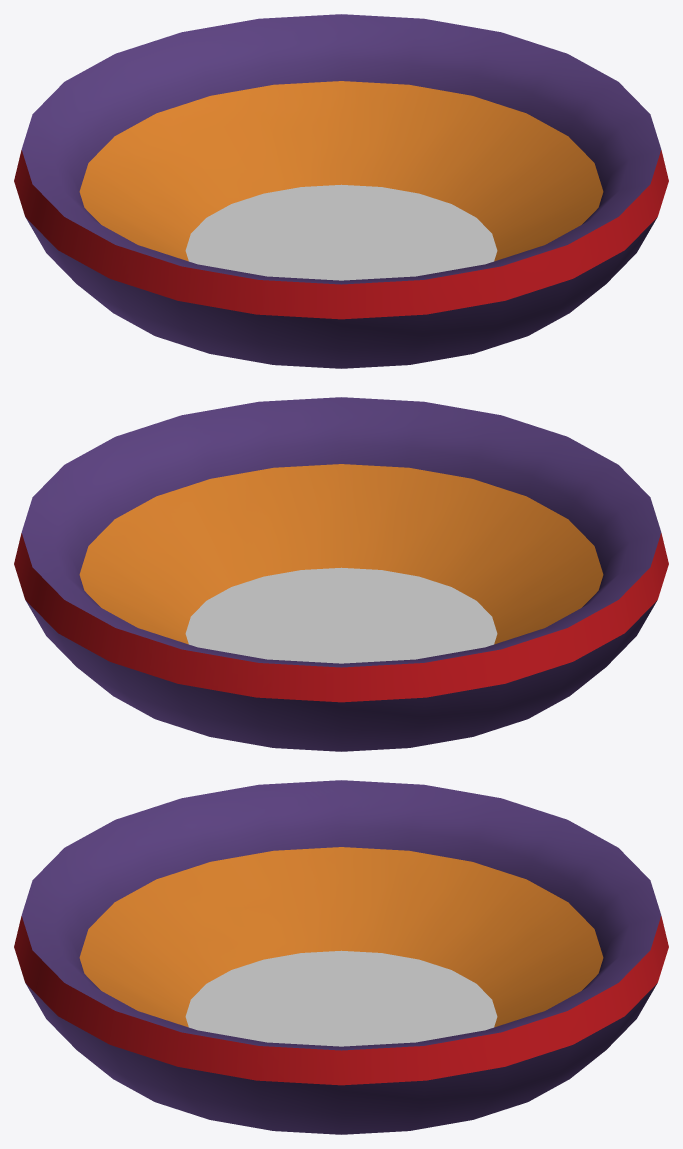
File: Pet Slot.fbx
The picture shows the model from 3 angles, top to bottom: view 1: azimuth 30°, elevation 25°; view 2: azimuth 150°, elevation 25°; view 3: azimuth 270°, elevation 25°; orthographic projection.
Visible parts, largest first — view 1: Pet Slot; view 2: Pet Slot; view 3: Pet Slot.
Boxes of the visible parts, x1,y1,x2,y2 form: Pet Slot: (14, 14, 668, 368); Pet Slot: (14, 397, 668, 751); Pet Slot: (14, 780, 668, 1134).
Size of the model in its own units: 248 by 45.16 by 248.
